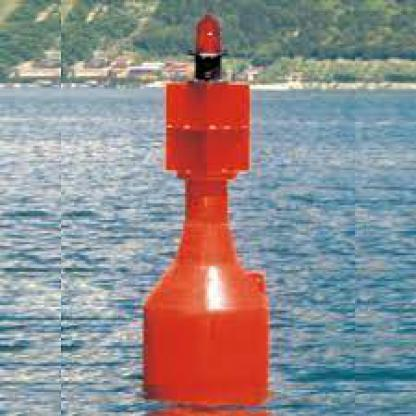buoy: (133, 11, 276, 412)
